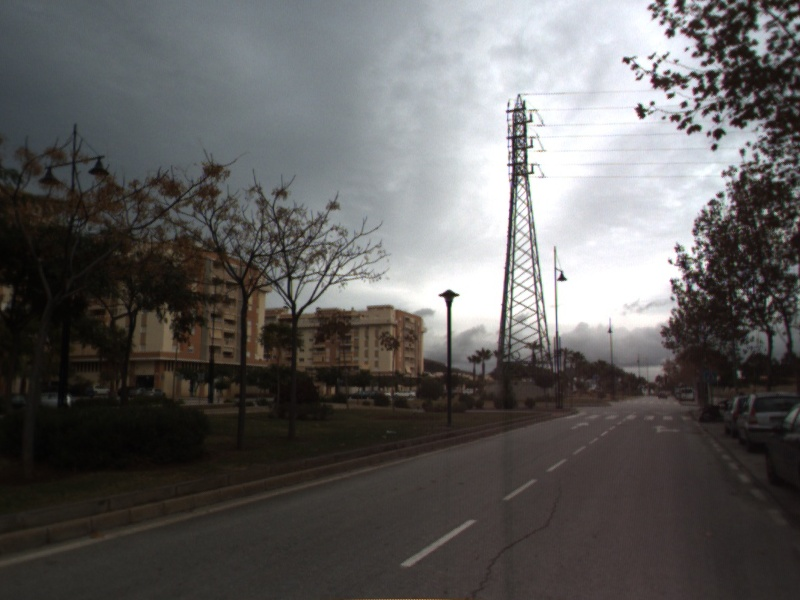STRAIGHT: (568, 420, 592, 432)
STRAIGHT_RIGHT: (650, 423, 683, 435)
